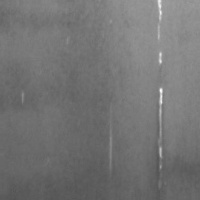scratches: (153, 85, 170, 174)
